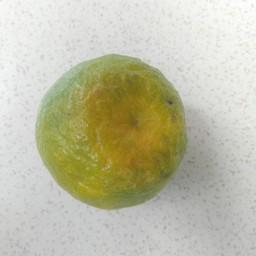Good_orange: (32, 52, 188, 212)
